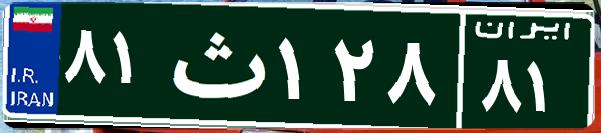1: (273, 28, 330, 110), (110, 28, 158, 105), (525, 38, 570, 115)
2: (330, 28, 385, 110)
8: (385, 28, 445, 110), (57, 26, 110, 107), (475, 38, 525, 113)
ث: (158, 15, 273, 115)
